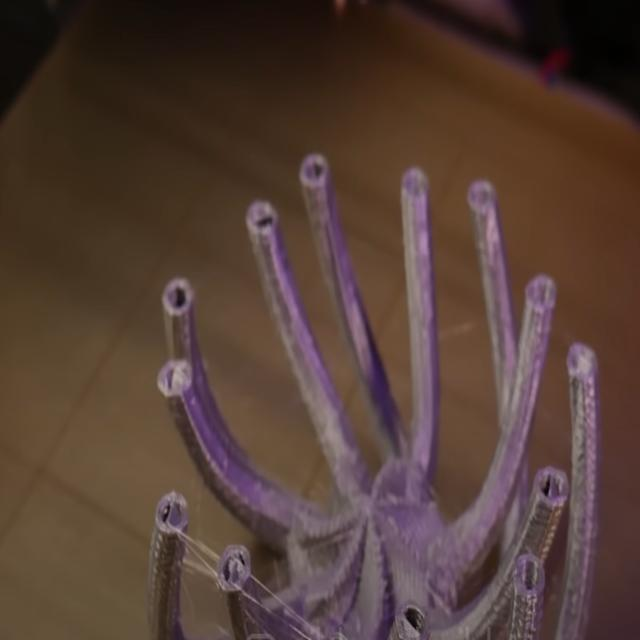stringing: (170, 522, 321, 640)
